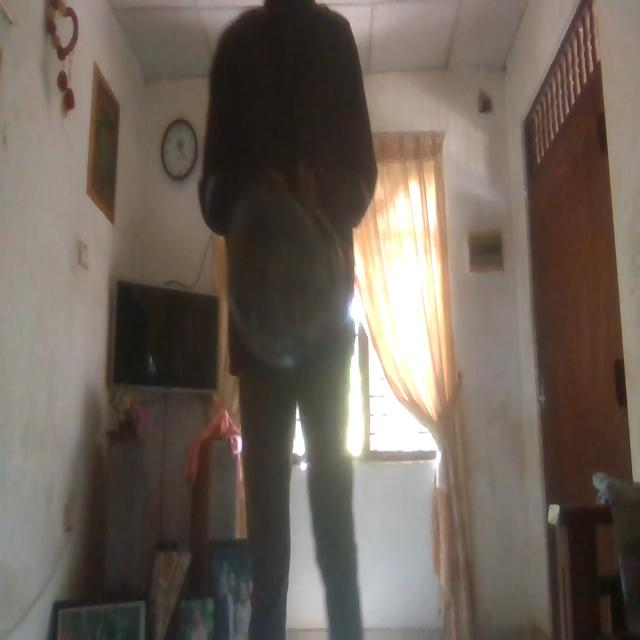Jacket_Wearer: (205, 0, 367, 371)
Person: (206, 0, 376, 640)
